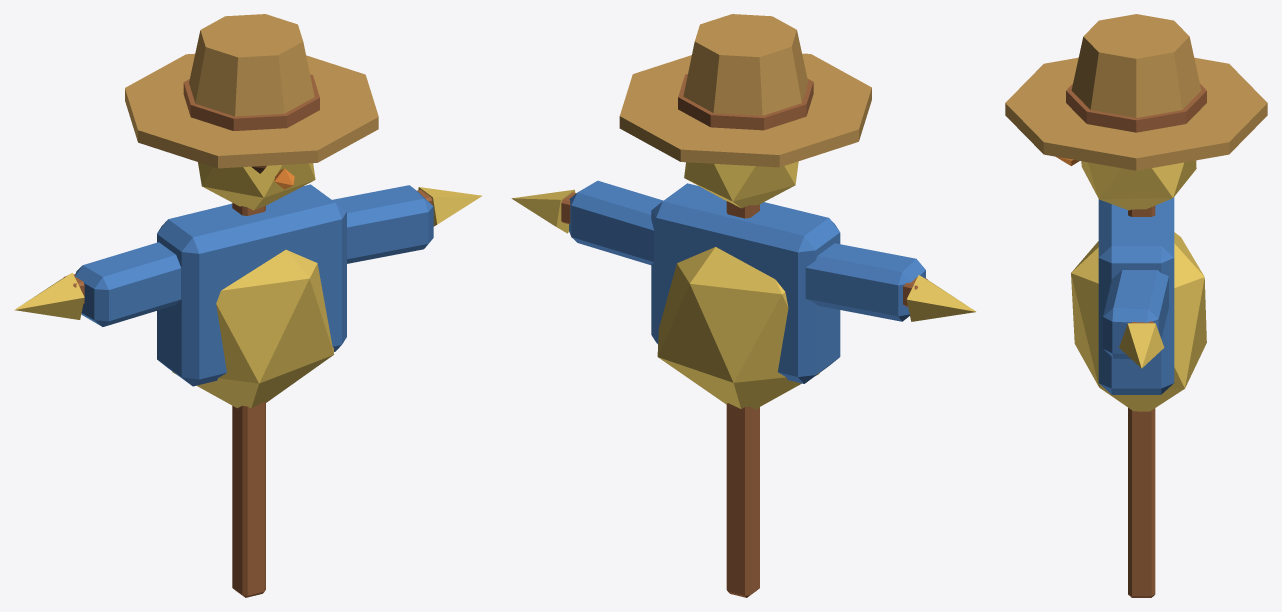
Rendered from Scarecrow.fbx.
3 views of the same model, side by side, from view 1: azimuth 30°, elevation 25°; view 2: azimuth 150°, elevation 25°; view 3: azimuth 270°, elevation 25° (orthographic).
Visible parts, largest first — view 1: Scarecrow; view 2: Scarecrow; view 3: Scarecrow.
Boxes of the visible parts, x1,y1,x2,y2 form: Scarecrow: (14,14,482,597); Scarecrow: (511,14,976,597); Scarecrow: (1005,14,1267,597).
Bounding box in the file's own units: 2.07 × 2.36 × 1.01.
